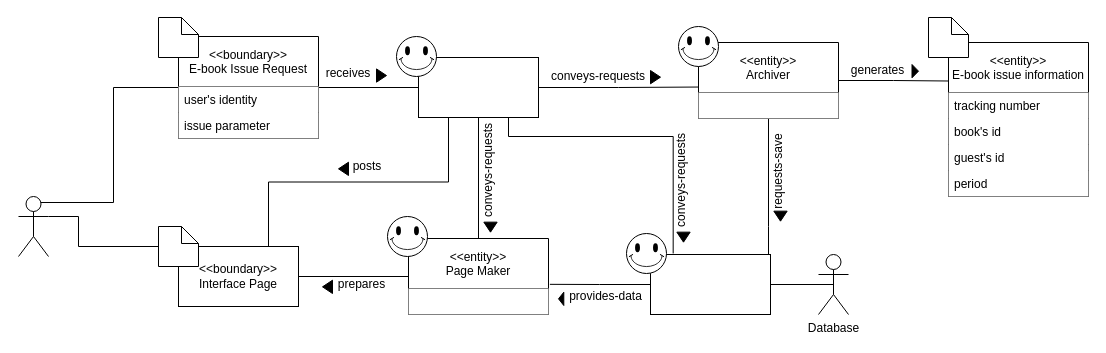
This 1106x353 diagram has some shape labels left out. The shapes that lost their labels are listed below. From the top down, each one's centre as x and y in pixels, then its label:
the point at 478,87: <<control>> Controller
the point at 768,105: current tracking number
the point at 33,226: Guest
the point at 478,301: archiving result
the point at 710,284: <<boundary>> Database Connection
